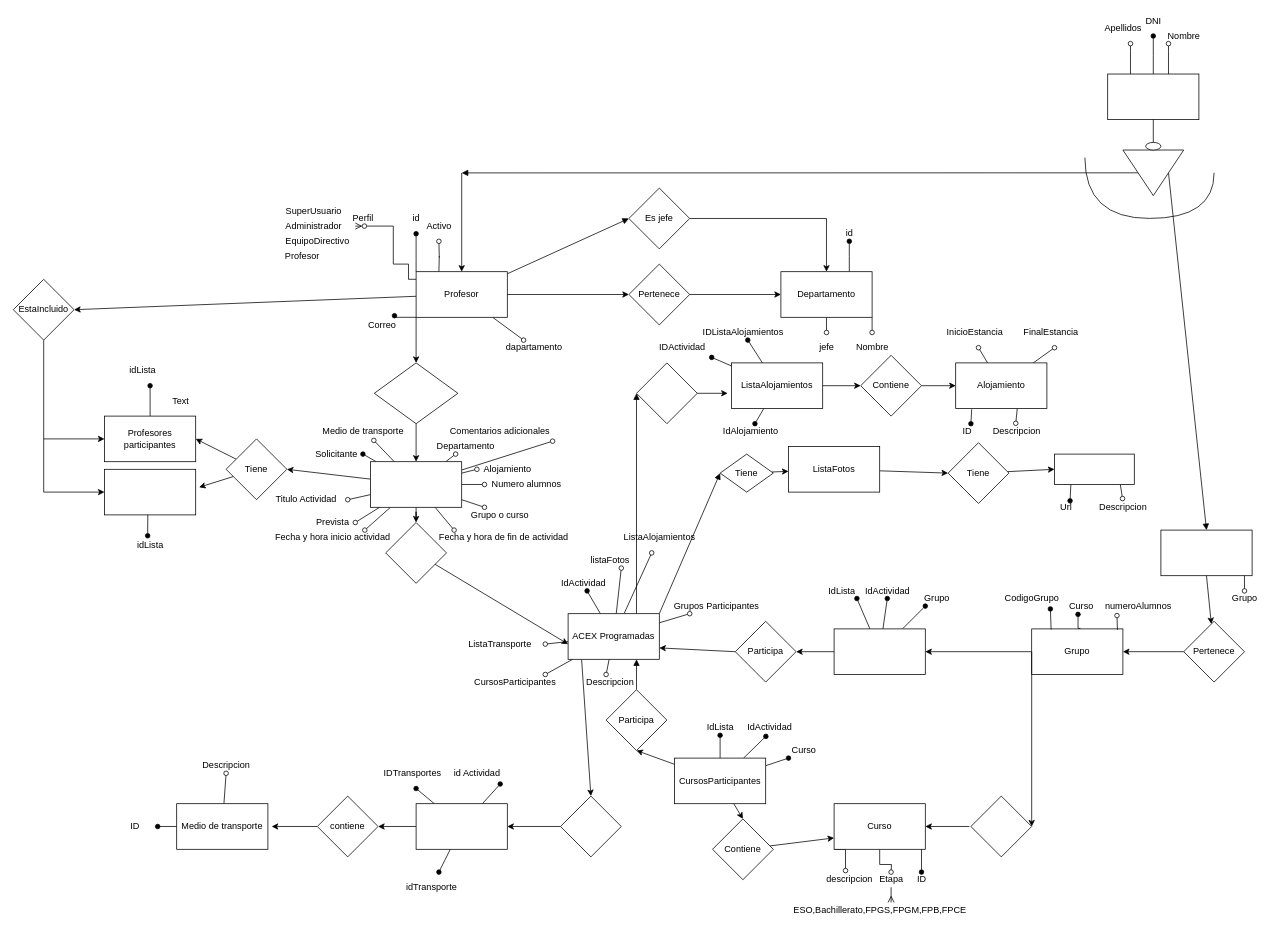
Some shapes in this 1277 by 931 pixel diagram are drawn without their labels. Here are the shapes that lost their labels. From the top down, the box of each, then its label:
(1107, 73, 1199, 120): Persona
(374, 362, 458, 424): Hace
(636, 362, 697, 424): Requiere
(370, 461, 462, 507): Solicitud
(1054, 453, 1134, 484): Fotos
(104, 469, 196, 515): Profesores responsables
(385, 522, 446, 583): Procede
(1160, 529, 1252, 576): Alumno
(833, 628, 925, 674): Gruposparticipantes
(415, 803, 507, 849): Medios de transporte
(560, 795, 621, 857): Usa
(970, 795, 1032, 857): Compone
